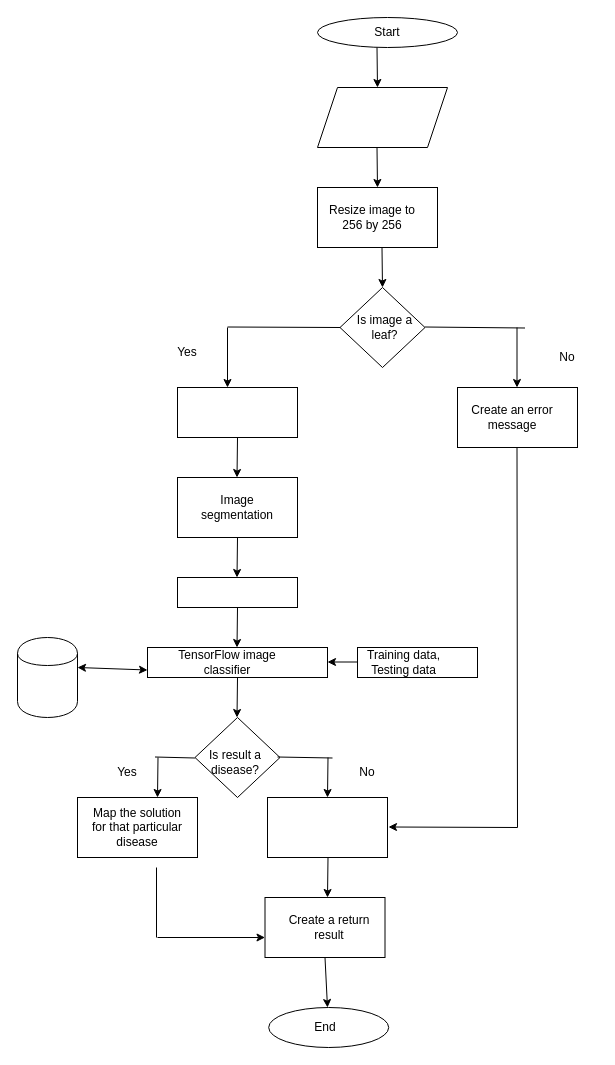
Some shapes in this 615 by 1065 pixel diagram are drawn without their labels. The shapes that lost their labels are listed below. From the top down, each one's centre as x and y in pixels, then its label:
At [382,117]: "Upload an image".
At [237,412]: "Image preprocessing".
At [237,592]: "Feature extraction".
At [47,677]: "Dbs".
At [327,827]: "No disease".
